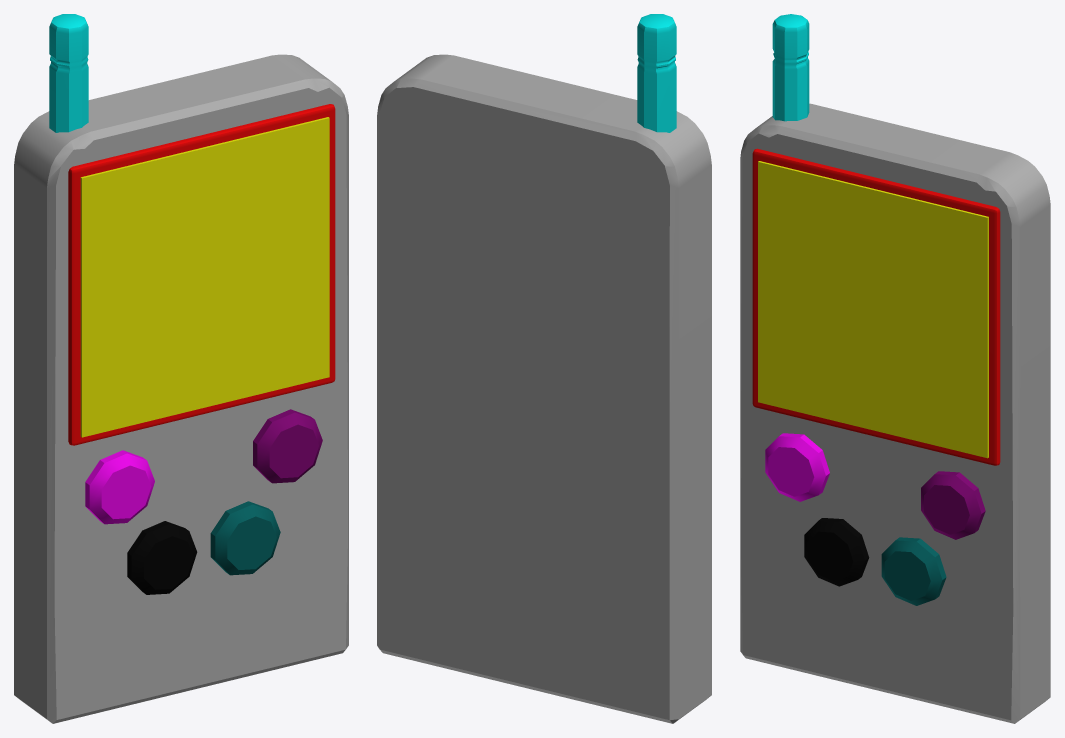
Rendered from PHone2.fbx.
The picture shows the model from 3 angles, left to right: view 1: azimuth 30°, elevation 25°; view 2: azimuth 150°, elevation 25°; view 3: azimuth 330°, elevation 25°; orthographic projection. The views are drawn at different scales.
Visible parts, largest first — view 1: PHone; view 2: PHone; view 3: PHone.
Boxes of the visible parts, <box> form: PHone: <box>14,14,348,723</box>; PHone: <box>377,14,711,723</box>; PHone: <box>740,14,1050,723</box>.
Size of the model in its own units: 42.95 by 93.05 by 11.96.
